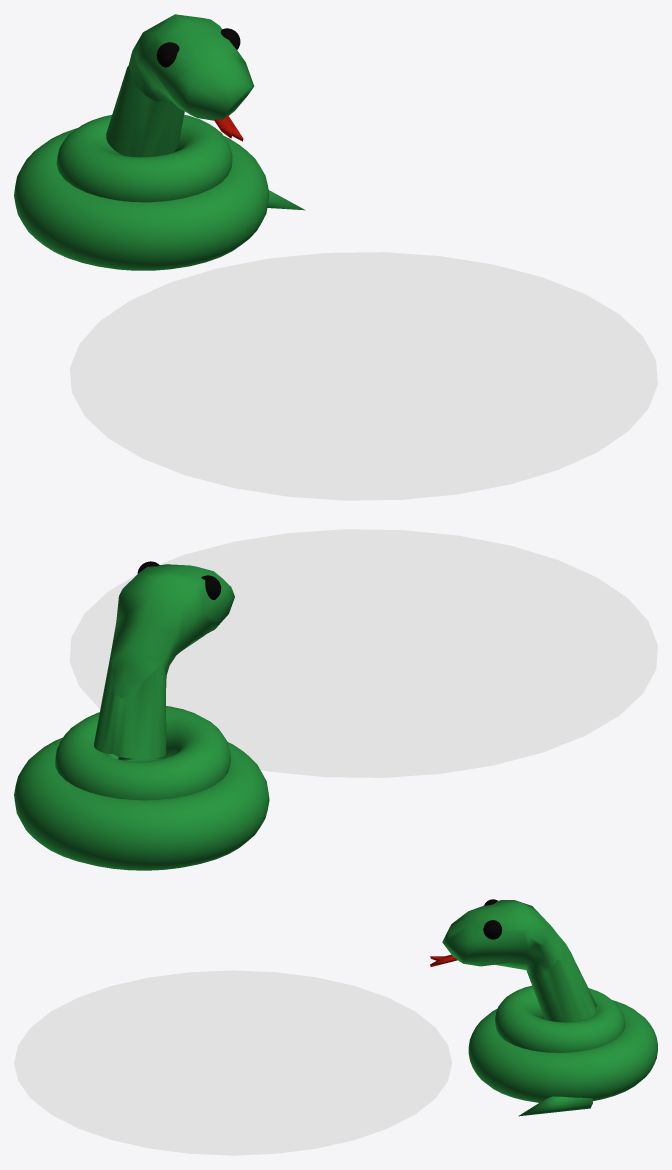
The model's file is snake.glb.
3 renders of one model, top to bottom at view 1: azimuth 30°, elevation 25°; view 2: azimuth 150°, elevation 25°; view 3: azimuth 270°, elevation 25°, orthographic. The views are drawn at different scales.
Parts seen in each view (by area): view 1: snek; view 2: snek; view 3: snek.
Boxes of the visible parts, x1,y1,x2,y2 form: snek: (14, 14, 657, 500); snek: (14, 529, 657, 870); snek: (14, 899, 657, 1155).
Size of the model in its own units: 20 by 8.89 by 29.39.
1 material, 1 textured.
